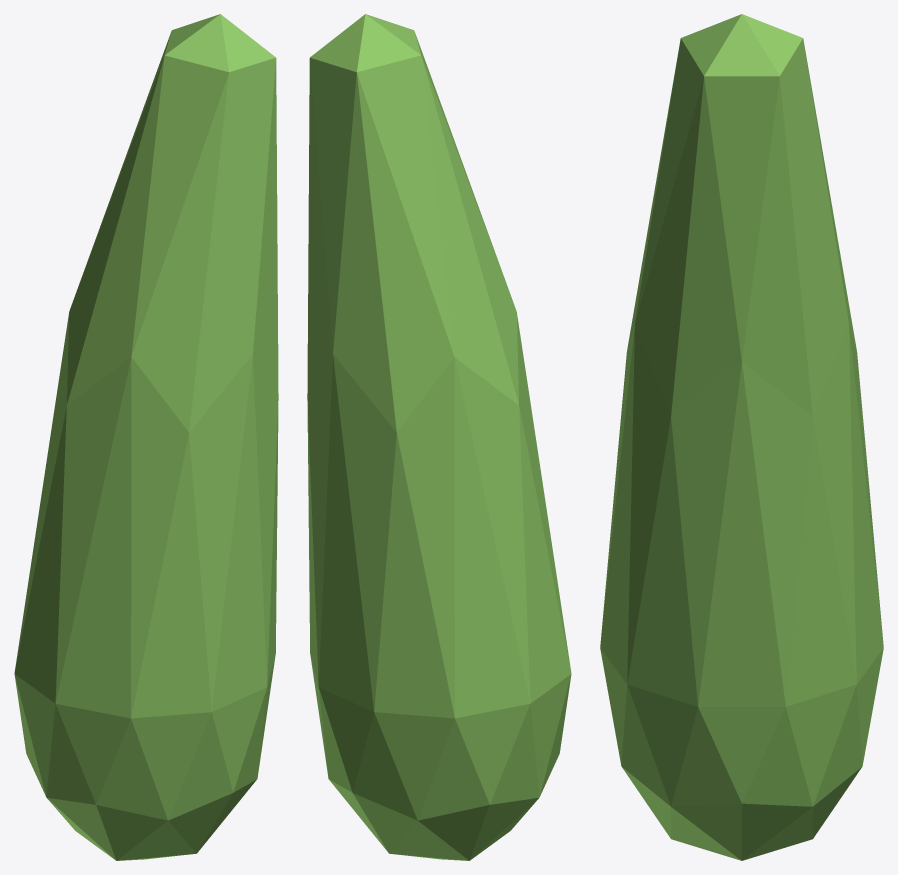
The model's file is Thuja_BushTree_m_09.fbx.
3 renders of one model, left to right at view 1: azimuth 30°, elevation 25°; view 2: azimuth 150°, elevation 25°; view 3: azimuth 270°, elevation 25°, orthographic. The views are drawn at different scales.
Parts seen in each view (by area): view 1: Thuja_BushTree_m_09; view 2: Thuja_BushTree_m_09; view 3: Thuja_BushTree_m_09.
Boxes of the visible parts, <box> form: Thuja_BushTree_m_09: <box>14,14,278,860</box>; Thuja_BushTree_m_09: <box>307,14,571,860</box>; Thuja_BushTree_m_09: <box>600,14,883,860</box>.
Bounding box in the file's own units: 120 × 412 × 120.
